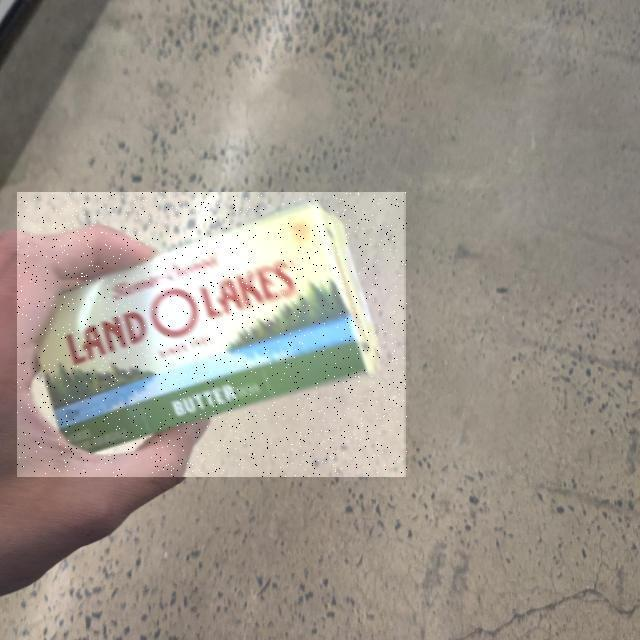Butter: (18, 192, 408, 477)
